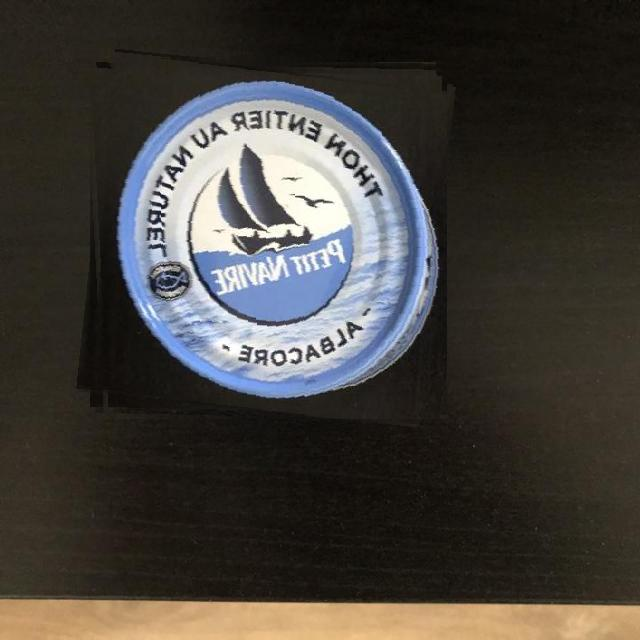recyclable: (85, 56, 447, 419)
